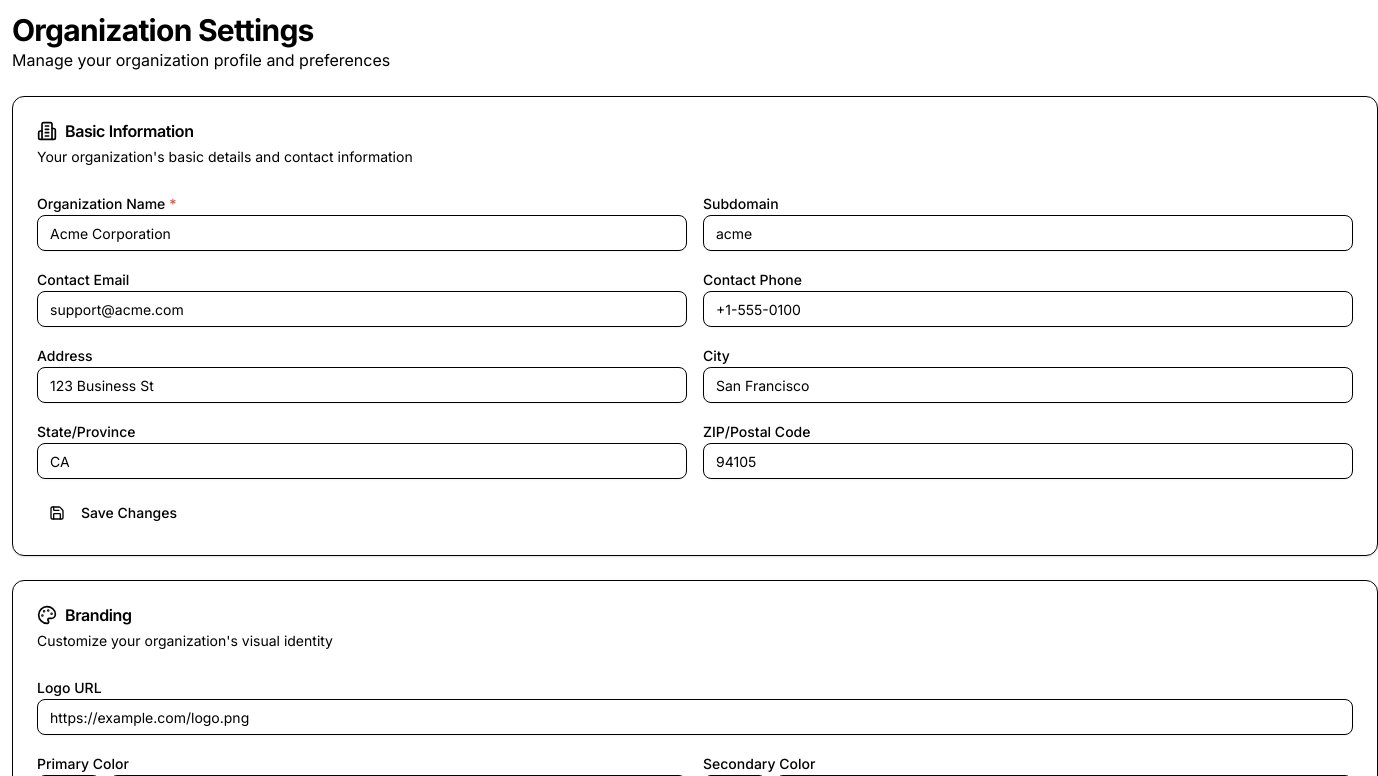
Test: OrganizationSettings › Basic Information › should validate subdomain format
Replace the text in the field labelled "Subdomain" with "invalid subdomain!": coordinates (1028, 233) [703,215,1353,251]
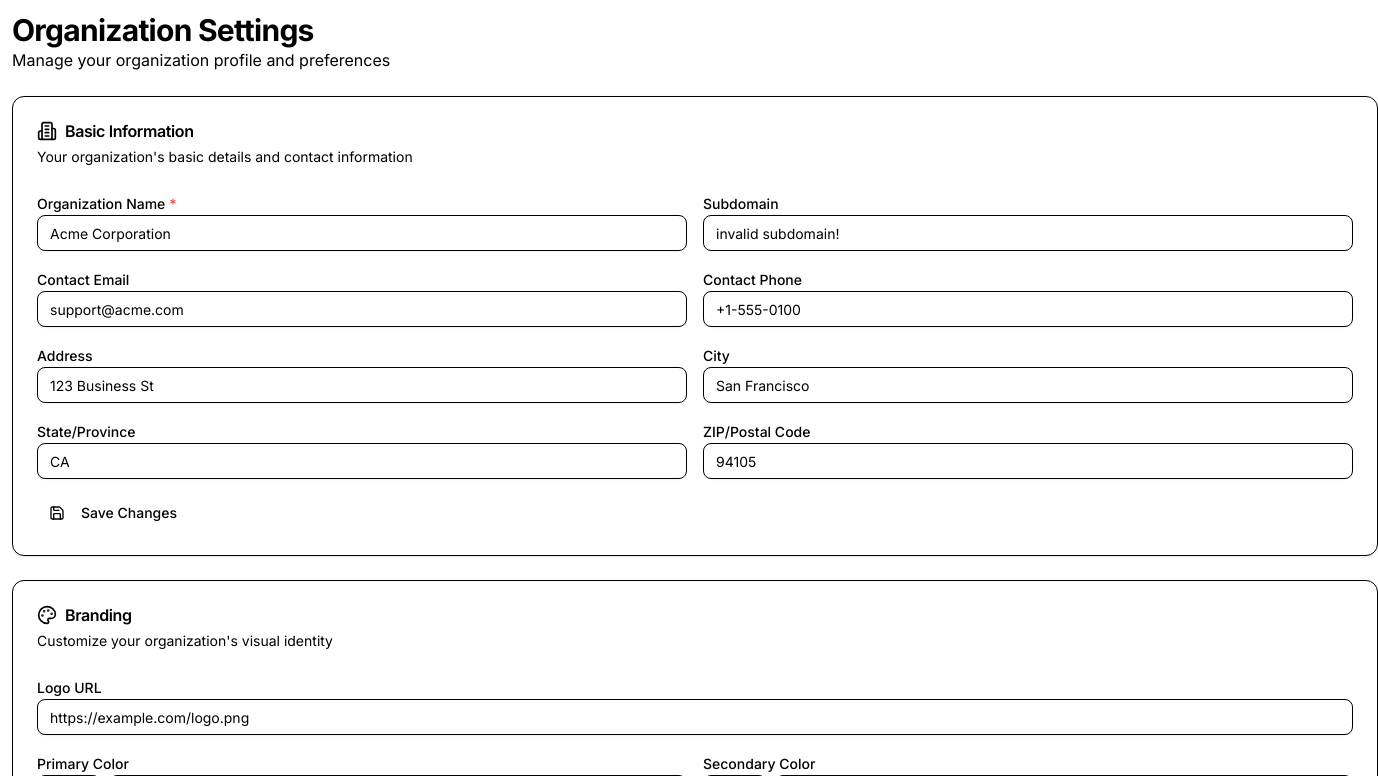
Click the button "Save Changes": coordinates (113, 513) [37,495,189,531]
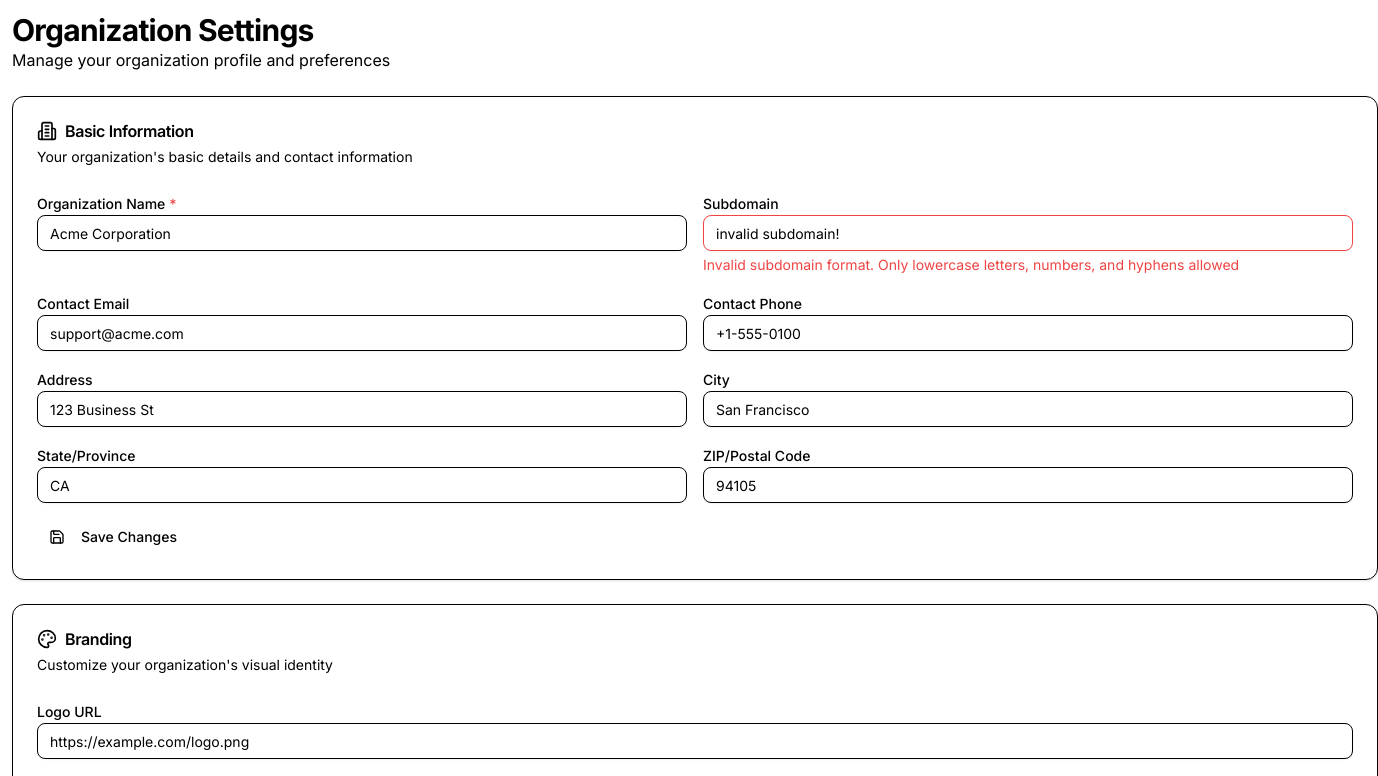
Now the text "Invalid subdomain format" is shown, box [703,256,1239,273]
